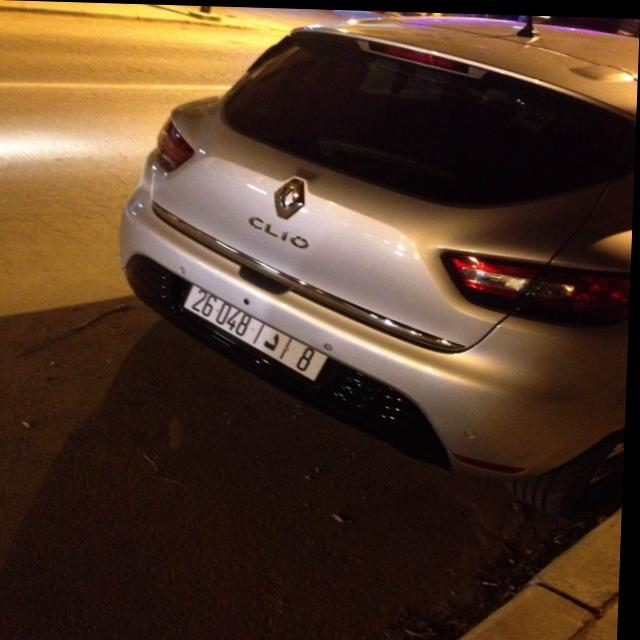License-Plate: (186, 284, 330, 378)
